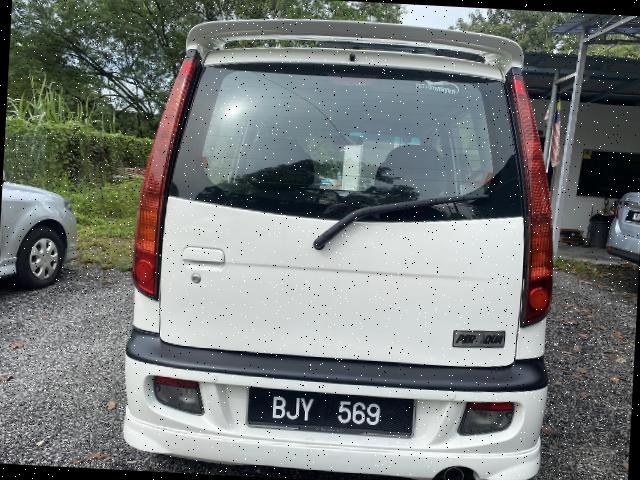License_Plate: (248, 388, 411, 439)
car: (105, 1, 575, 480)
